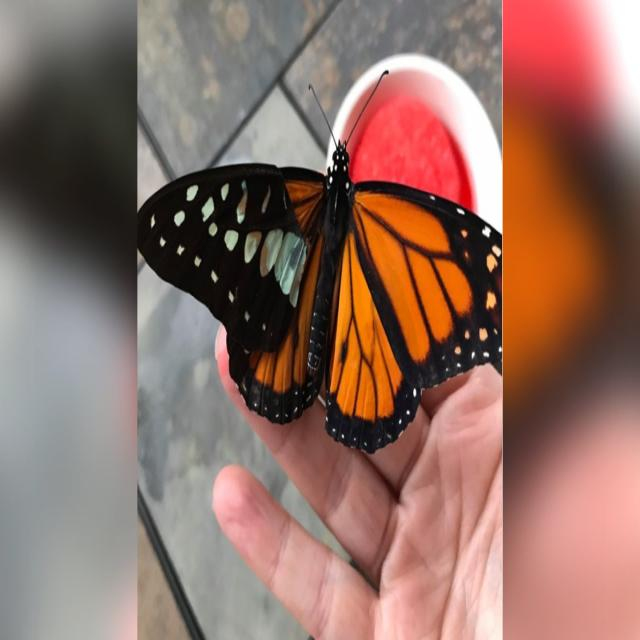butterfly: (148, 114, 508, 473)
